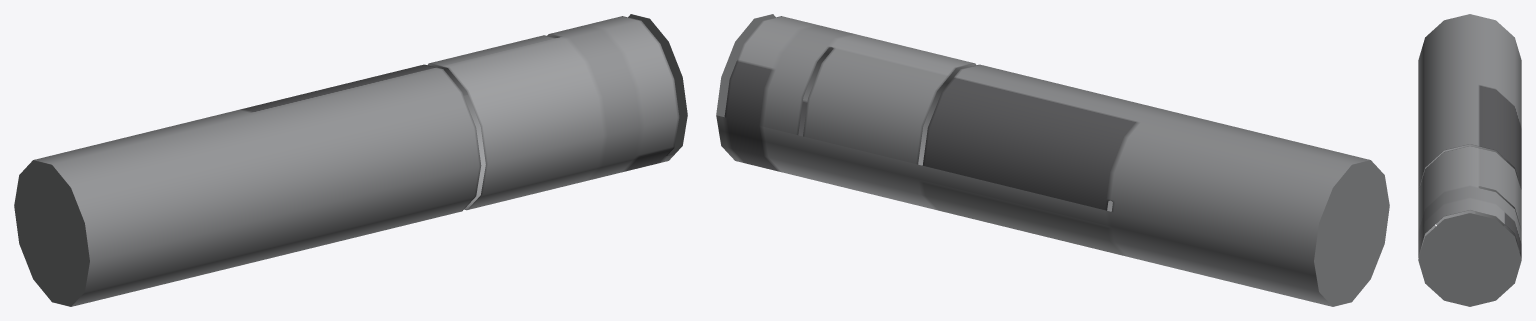
3 views of the same model, side by side, from view 1: azimuth 30°, elevation 25°; view 2: azimuth 150°, elevation 25°; view 3: azimuth 270°, elevation 25° (orthographic). The views are drawn at different scales.
Size of the model in its own units: 0.9779 by 0.2154 by 0.215.
